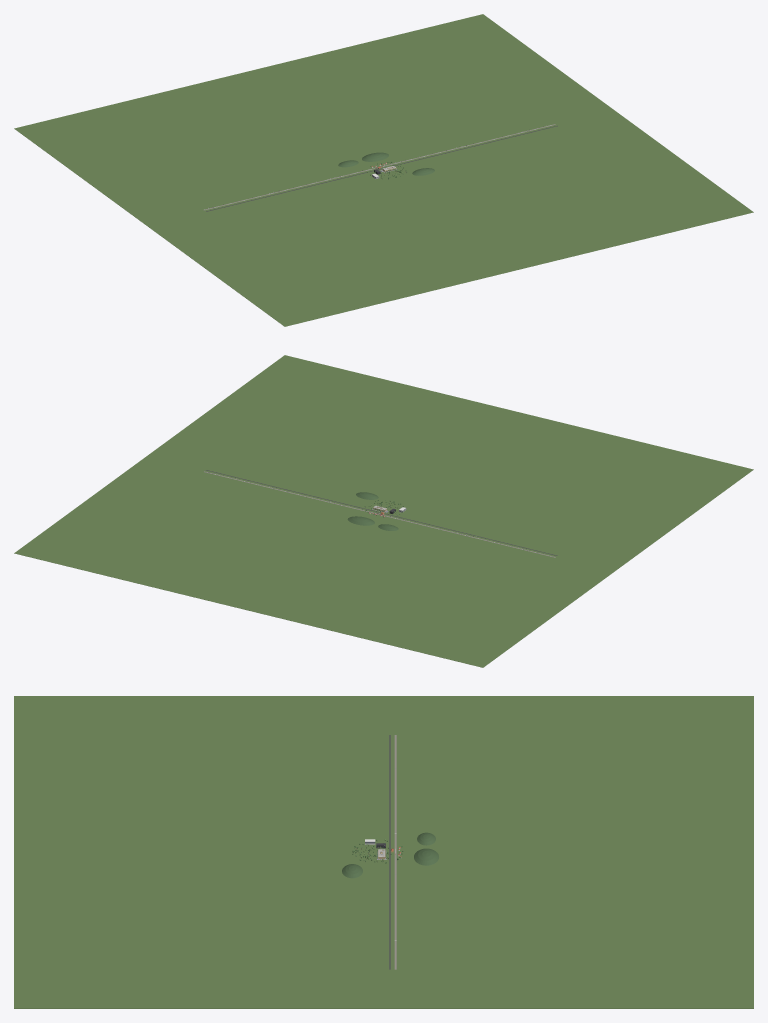
File: observatory.glb
3 renders of one model, top to bottom at view 1: azimuth 30°, elevation 25°; view 2: azimuth 150°, elevation 25°; view 3: azimuth 270°, elevation 25°, orthographic. The views are drawn at different scales.
Visible parts, largest first — view 1: Campus; view 2: Campus; view 3: Campus.
Boxes of the visible parts, x1,y1,x2,y2 form: Campus: [14, 14, 753, 326]; Campus: [14, 355, 753, 667]; Campus: [14, 696, 753, 1008].
Size of the model in its own units: 4000 by 240 by 4000.
